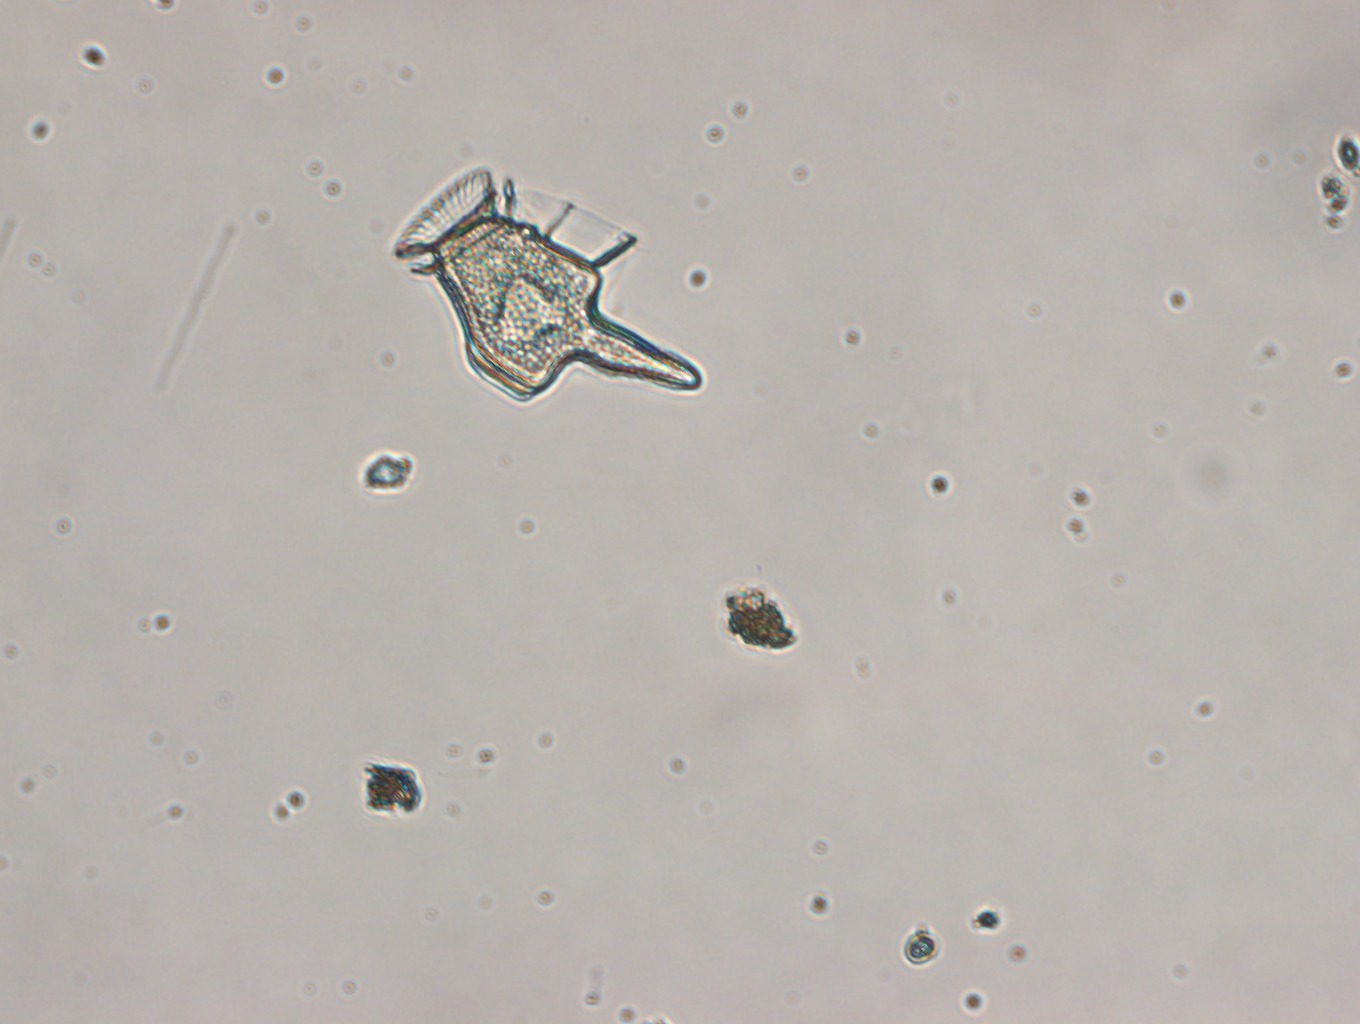dinophysis caudata: (388, 166, 705, 407)
